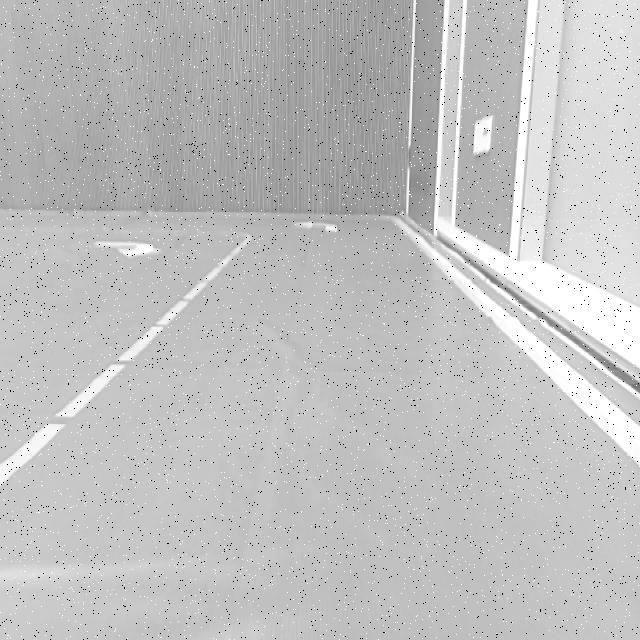left_lane: (0, 239, 254, 492)
right_lane: (392, 220, 640, 469)
